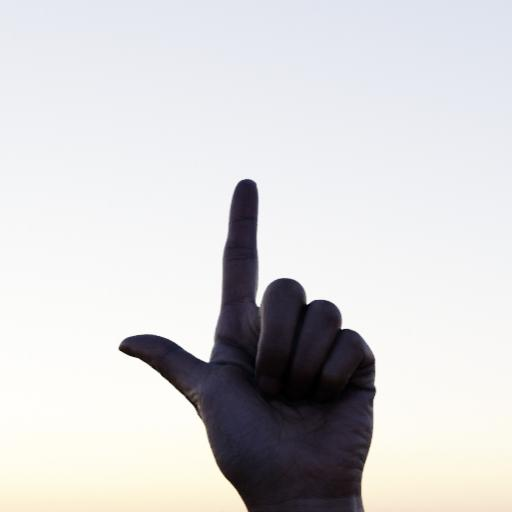L: (117, 170, 380, 512)
